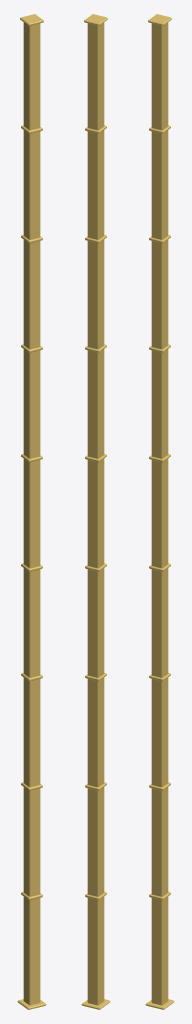
Rendered from SM_Post_0p5x43x0p5.glb.
The picture shows the model from 3 angles, left to right: view 1: azimuth 30°, elevation 25°; view 2: azimuth 150°, elevation 25°; view 3: azimuth 330°, elevation 25°; orthographic projection.
Parts seen in each view (by area): view 1: SM_Post_0p5x43x0p5; view 2: SM_Post_0p5x43x0p5; view 3: SM_Post_0p5x43x0p5.
Part boxes in pixels (x1=…): SM_Post_0p5x43x0p5: x1=17, y1=14, x2=46, y2=1009; SM_Post_0p5x43x0p5: x1=81, y1=14, x2=110, y2=1009; SM_Post_0p5x43x0p5: x1=145, y1=14, x2=174, y2=1009.
Bounding box in the file's own units: 0.85 × 43 × 0.85.
